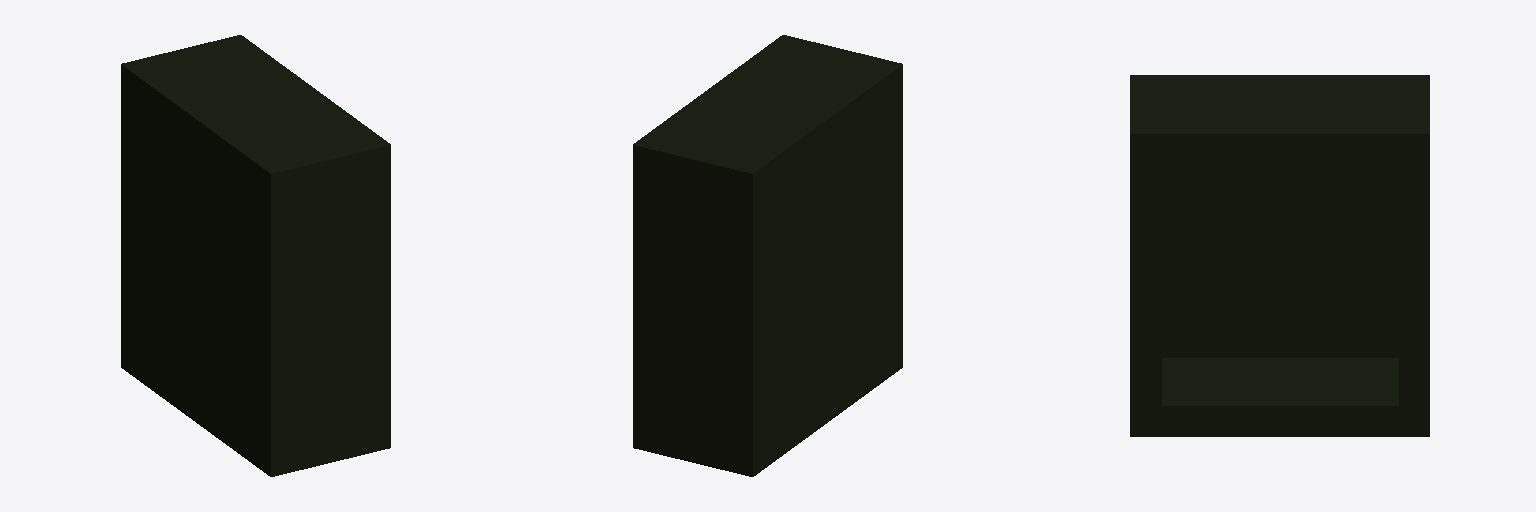
The model's file is corpseif.obj.
3 renders of one model, left to right at view 1: azimuth 30°, elevation 25°; view 2: azimuth 150°, elevation 25°; view 3: azimuth 270°, elevation 25°, orthographic.
Parts seen in each view (by area): view 1: Cube; view 2: Cube; view 3: Cube.
Boxes of the visible parts, x1,y1,x2,y2 form: Cube: [121, 35, 390, 476]; Cube: [633, 35, 902, 476]; Cube: [1130, 75, 1429, 436].
Size of the model in its own units: 1.28 by 3.07 by 2.76.